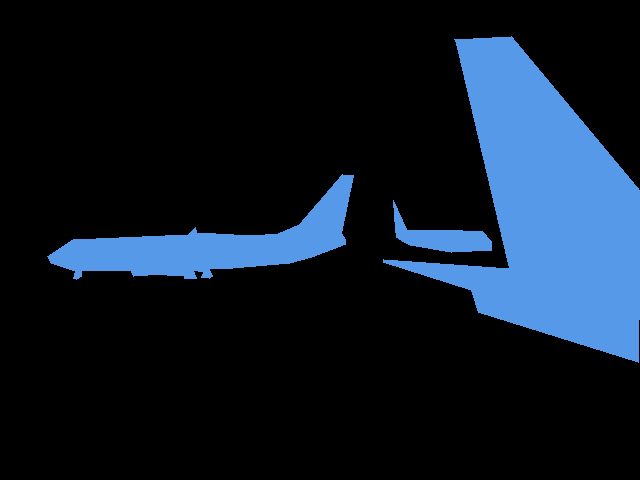Airplane: (383, 36, 640, 363), (47, 174, 354, 279), (393, 200, 492, 253)
